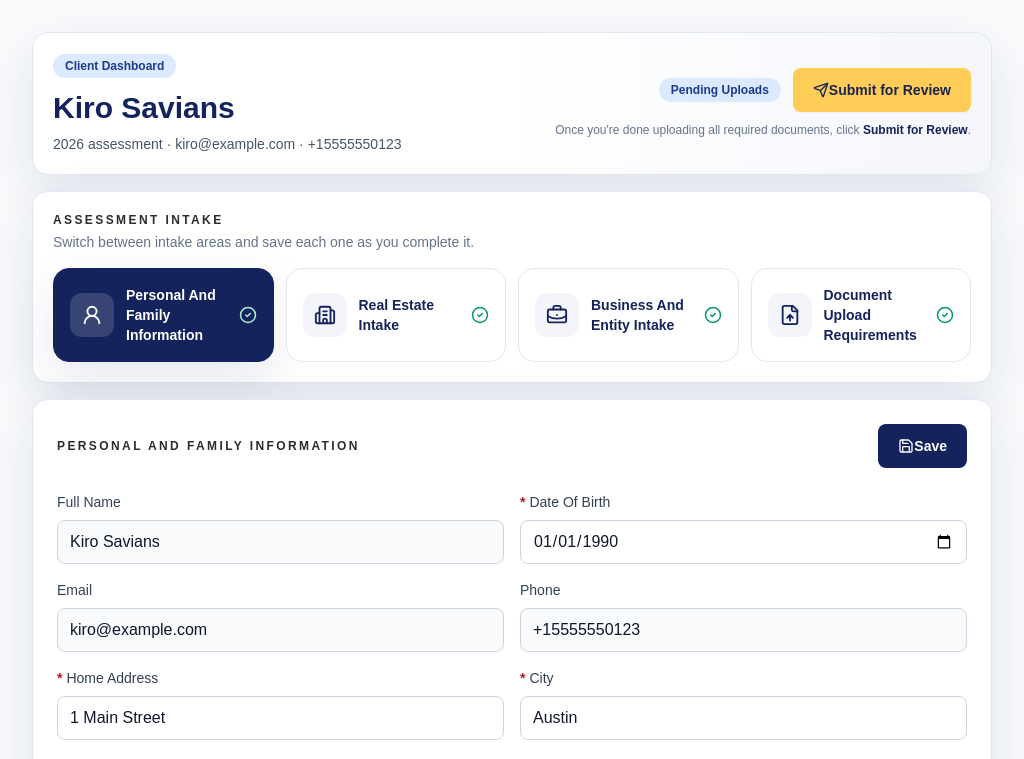
Test: PortalDashboardClient › requires confirmation before marking the assessment ready
Click the button "Submit for Review": click(882, 90) [793,68,971,112]
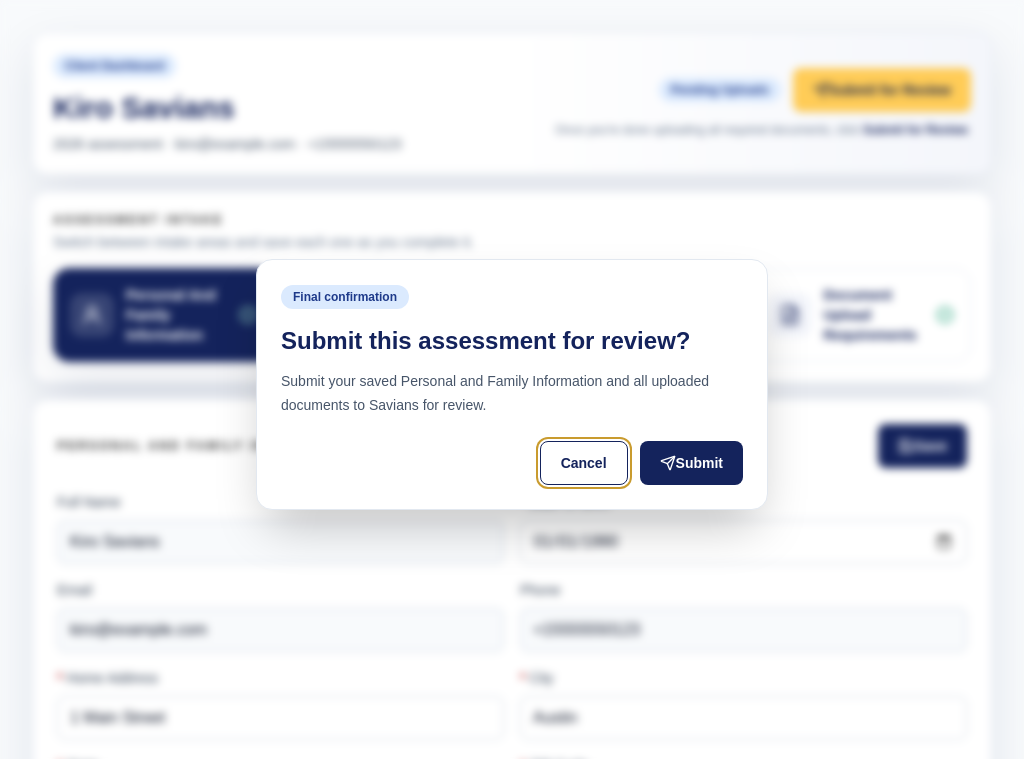
Click the button "Cancel": click(584, 462) [540,440,628,484]
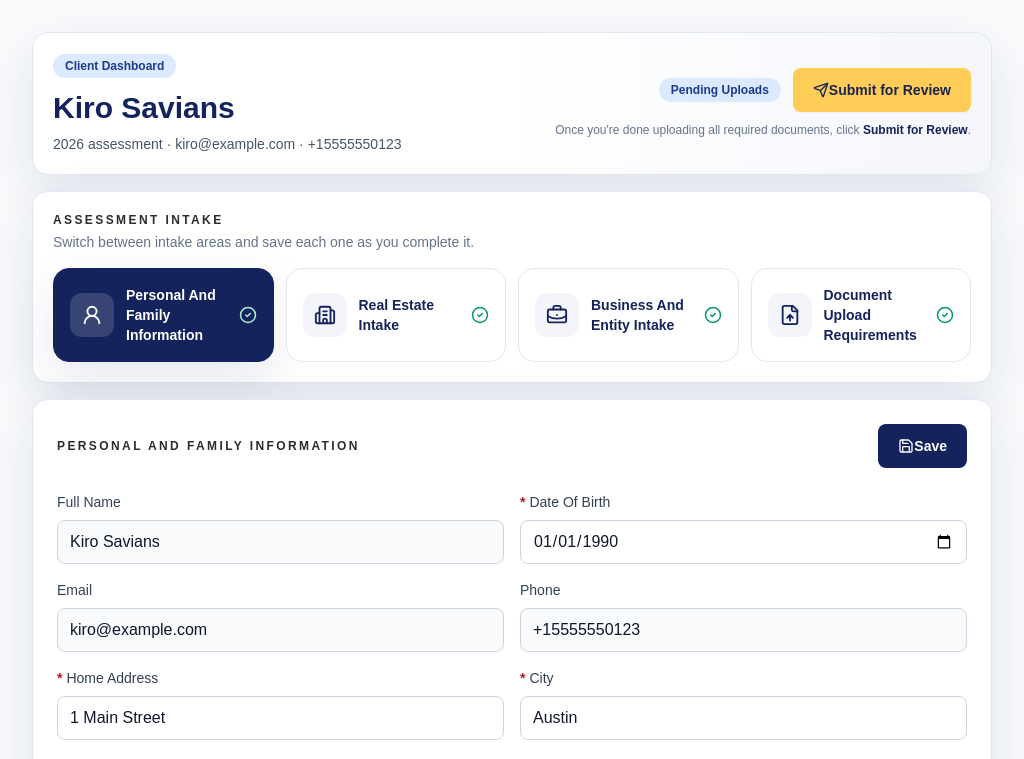
Result: the dialog is gone
Click the button "Submit for Review": click(882, 90) [793,68,971,112]
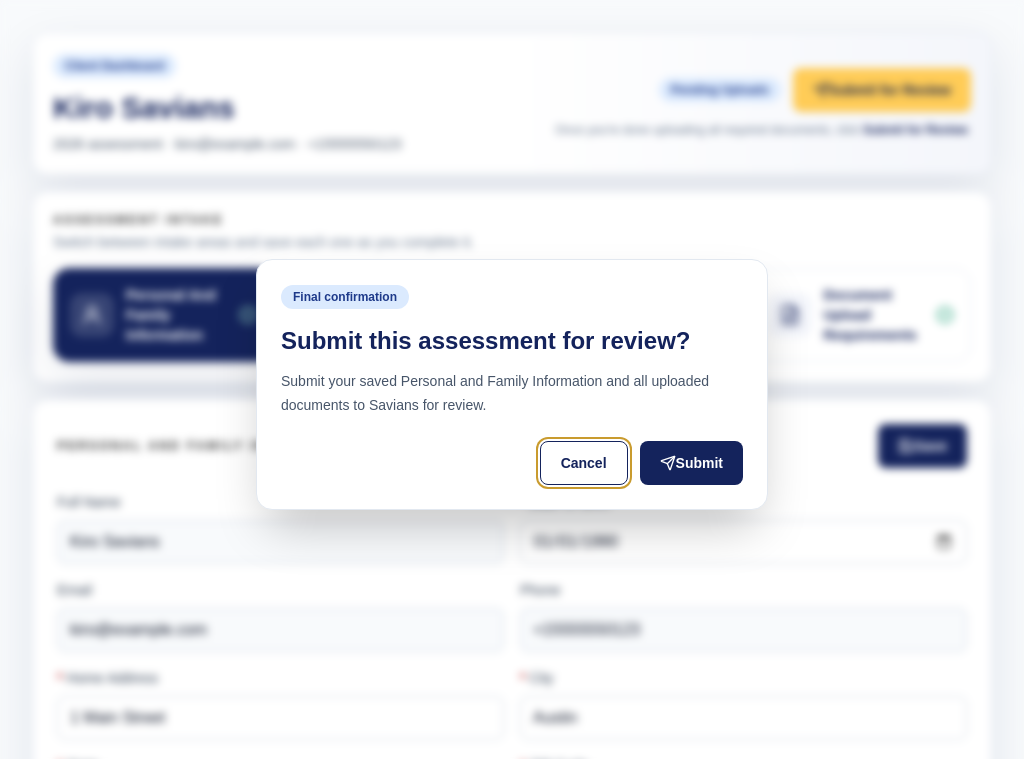
Click the button "Submit": click(691, 462) [640,440,743,484]
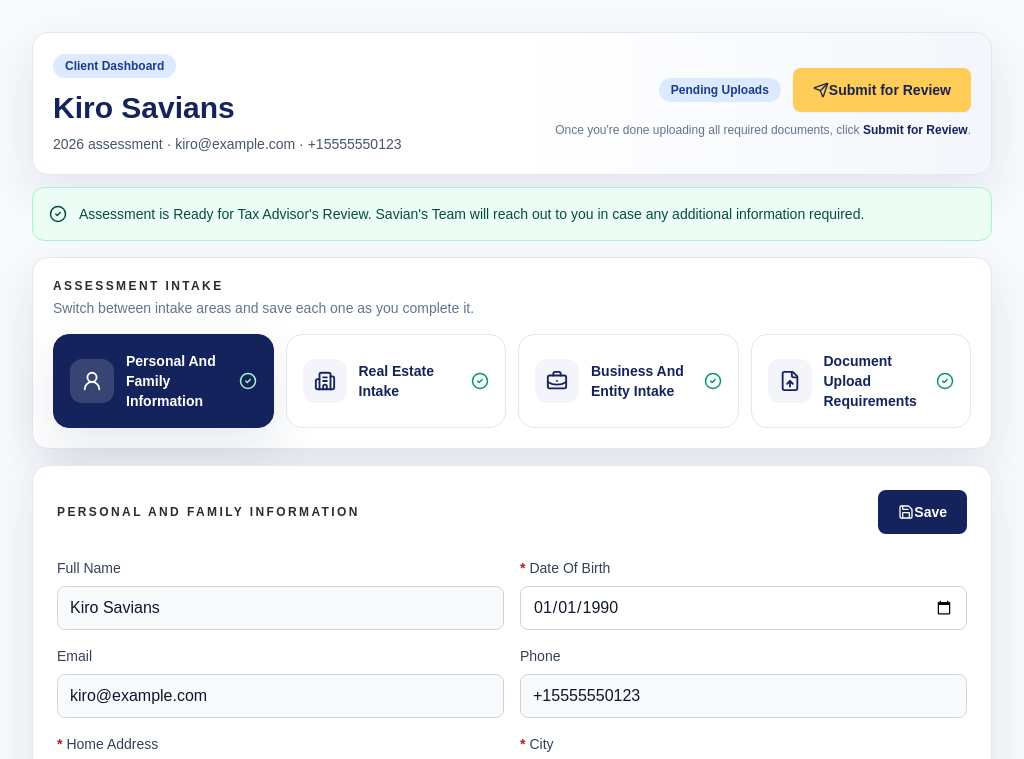
Result: the text "Assessment is Ready for Tax Advisor's Review. Savian's Team will reach out to you in case any additional information req" is shown at [79,206,864,222]
